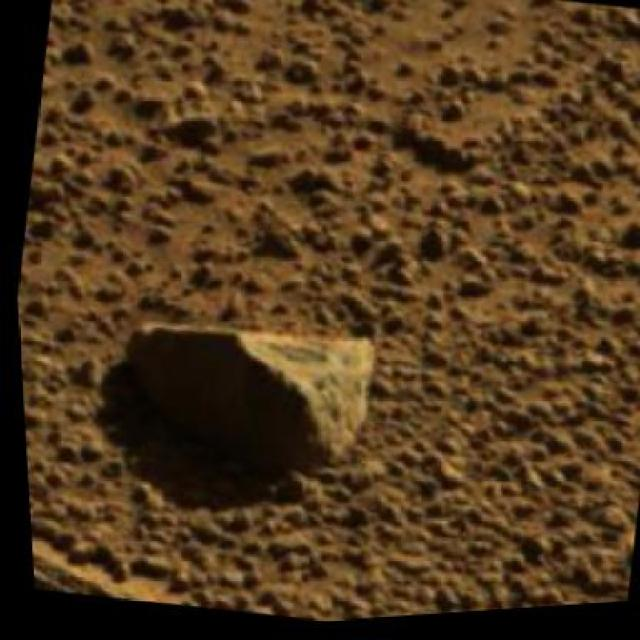rock: (112, 304, 374, 485)
